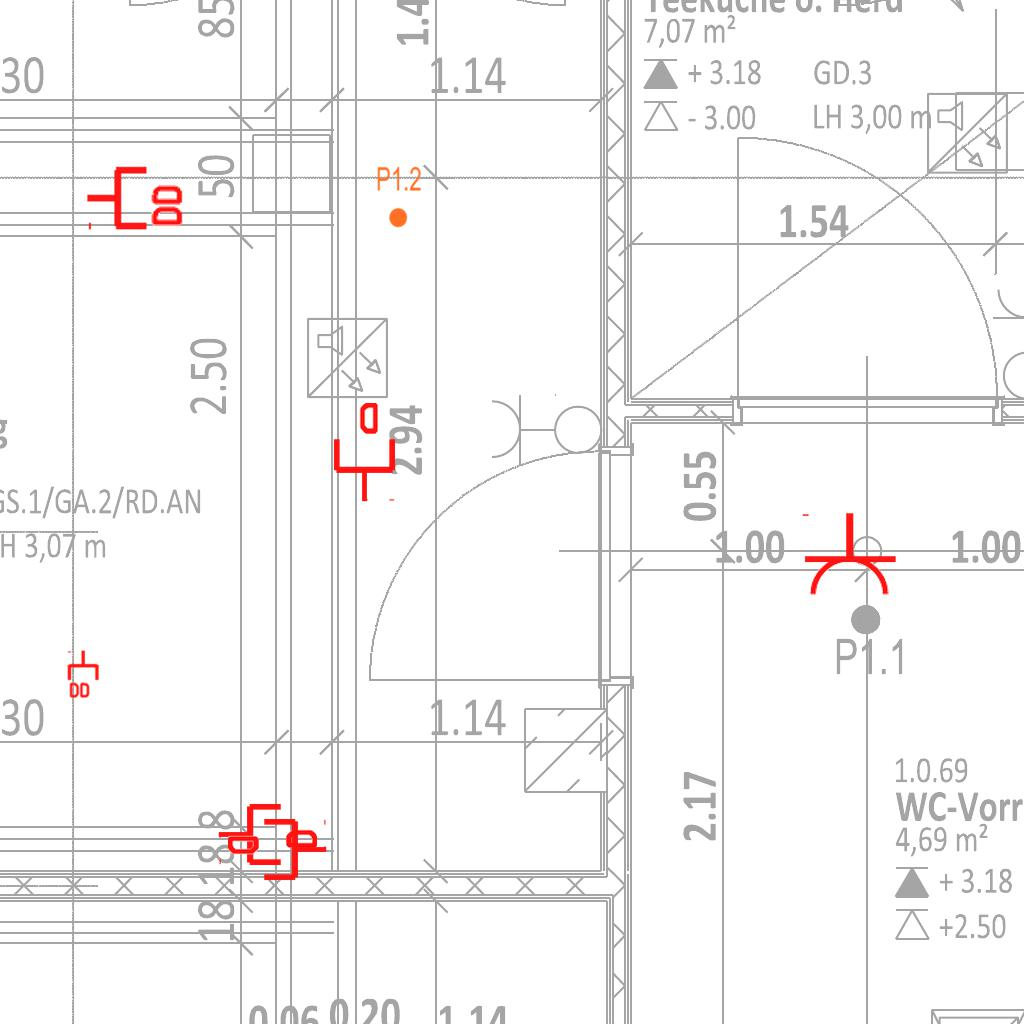Datenanschluss_einfach: (217, 800, 317, 869), (330, 403, 399, 503), (228, 815, 328, 884)
Datenanschluss_zweifach: (84, 162, 187, 231), (67, 649, 101, 700)
Downlight_LED_Einbauleuchten_Flur: (376, 165, 422, 229)
Schukosteckdose_einfach: (798, 511, 898, 598)
